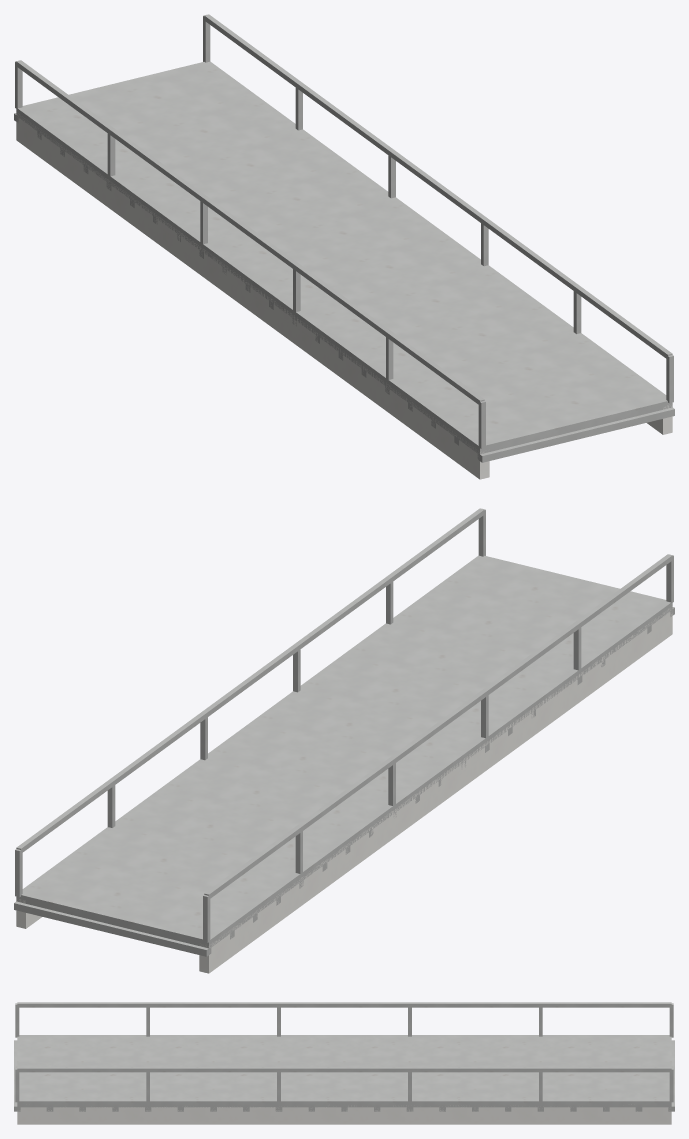
Rendered from walkway.gltf.
3 views of the same model, one above another, from view 1: azimuth 30°, elevation 25°; view 2: azimuth 150°, elevation 25°; view 3: azimuth 270°, elevation 25° (orthographic). The views are drawn at different scales.
Parts seen in each view (by area): view 1: jx_walkway; view 2: jx_walkway; view 3: jx_walkway.
Boxes of the visible parts, x1,y1,x2,y2 form: jx_walkway: (14, 14, 674, 479); jx_walkway: (14, 508, 674, 973); jx_walkway: (14, 1002, 674, 1124).
Bounding box in the file's own units: 2.4 × 0.94 × 10.1.
2 materials, 2 textured.
